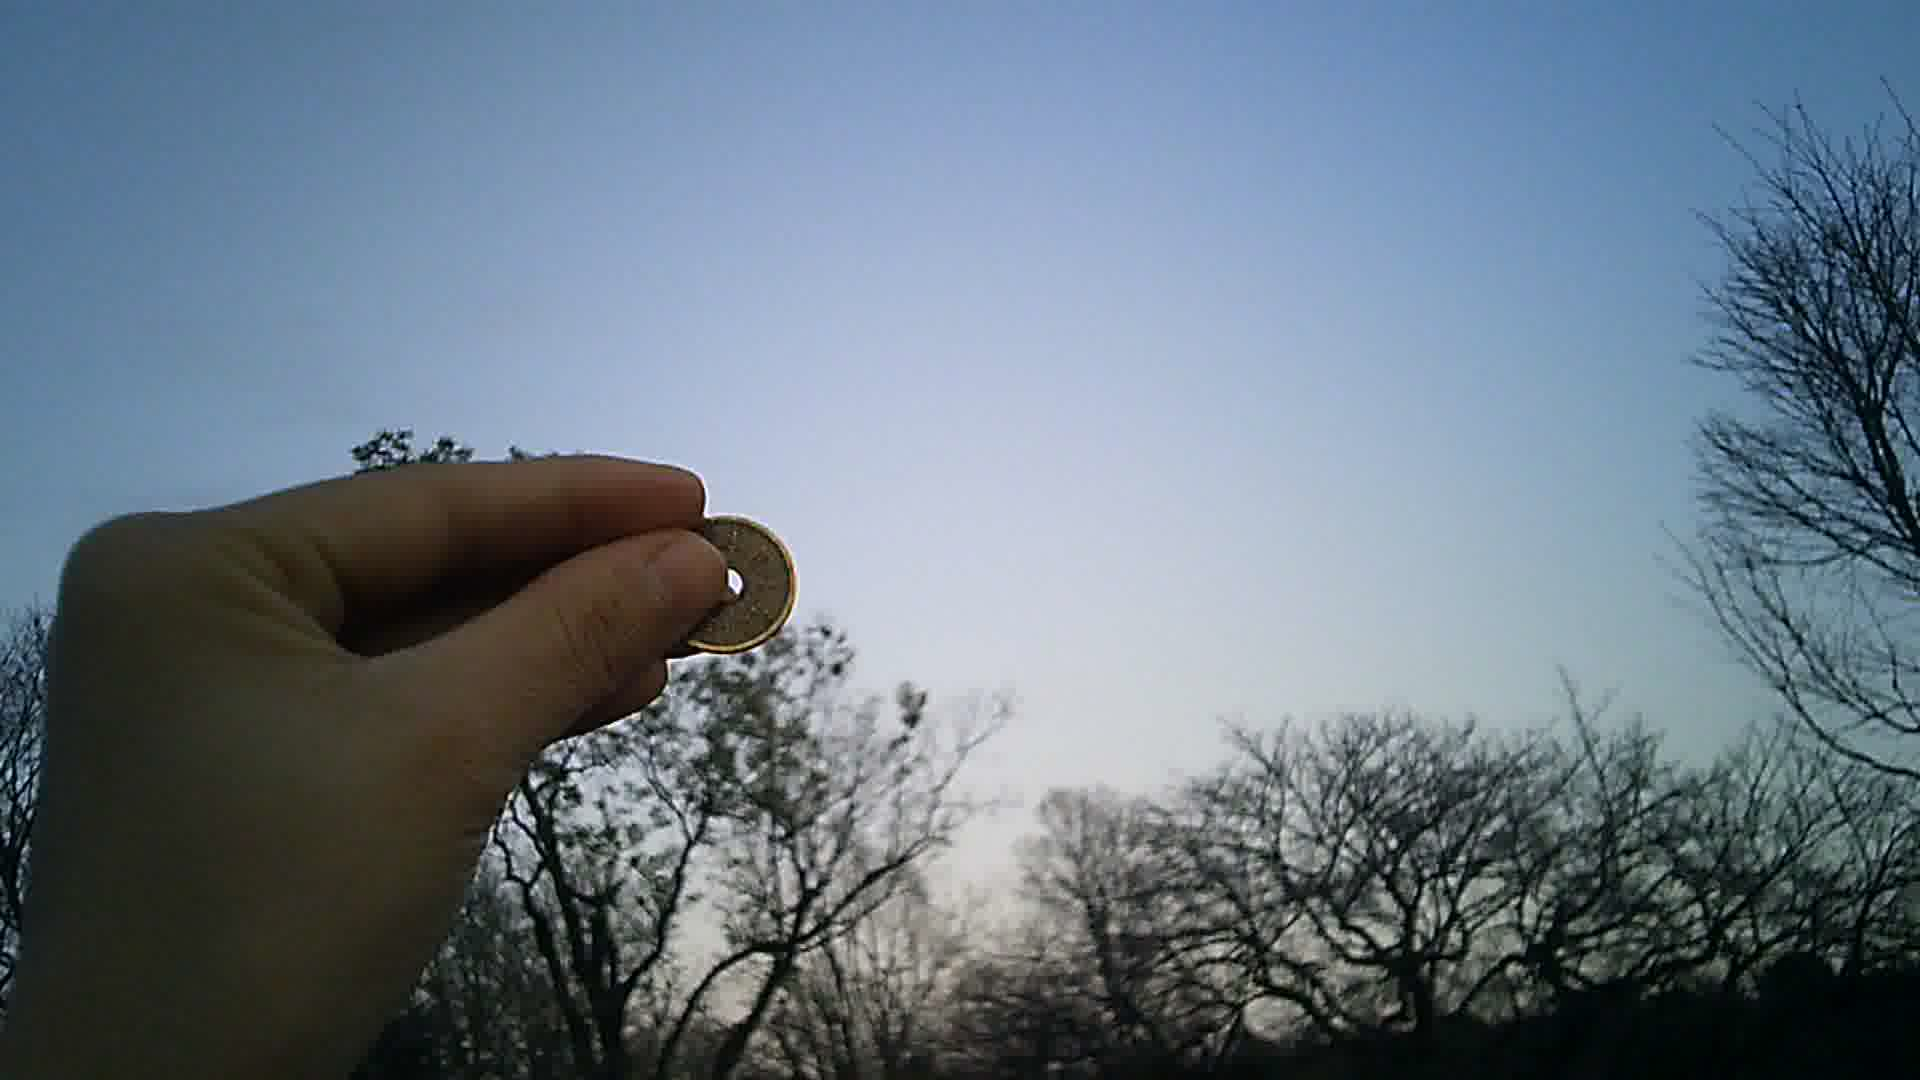5 Yen: (658, 506, 793, 662)
